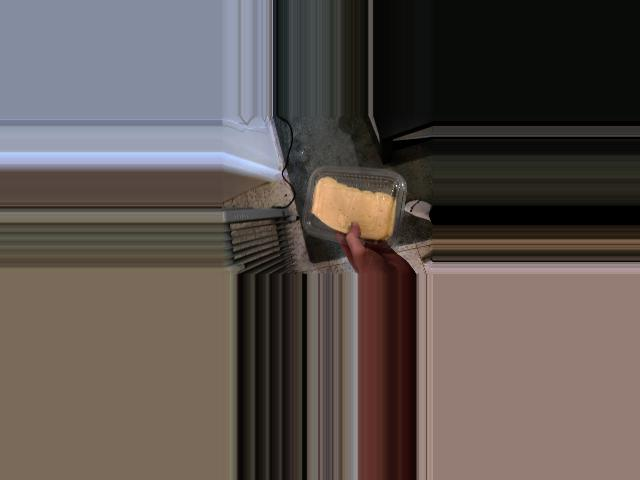cheese: (304, 173, 405, 246)
